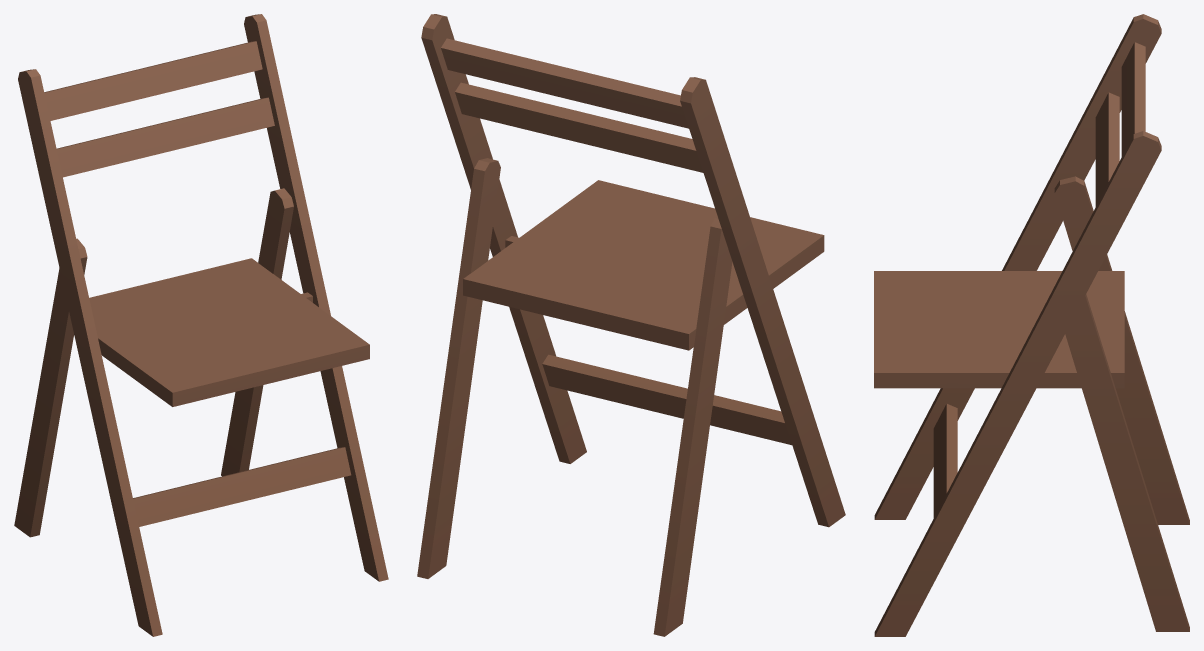
File: Chair_02.fbx
3 views of the same model, side by side, from view 1: azimuth 30°, elevation 25°; view 2: azimuth 150°, elevation 25°; view 3: azimuth 270°, elevation 25° (orthographic). The views are drawn at different scales.
Parts seen in each view (by area): view 1: Chair_02; view 2: Chair_02; view 3: Chair_02.
Part boxes in pixels (bbox=[...]): Chair_02: bbox=[14, 14, 388, 636]; Chair_02: bbox=[417, 14, 845, 636]; Chair_02: bbox=[874, 14, 1189, 636].
Size of the model in its own units: 51.99 by 99.71 by 56.93.
